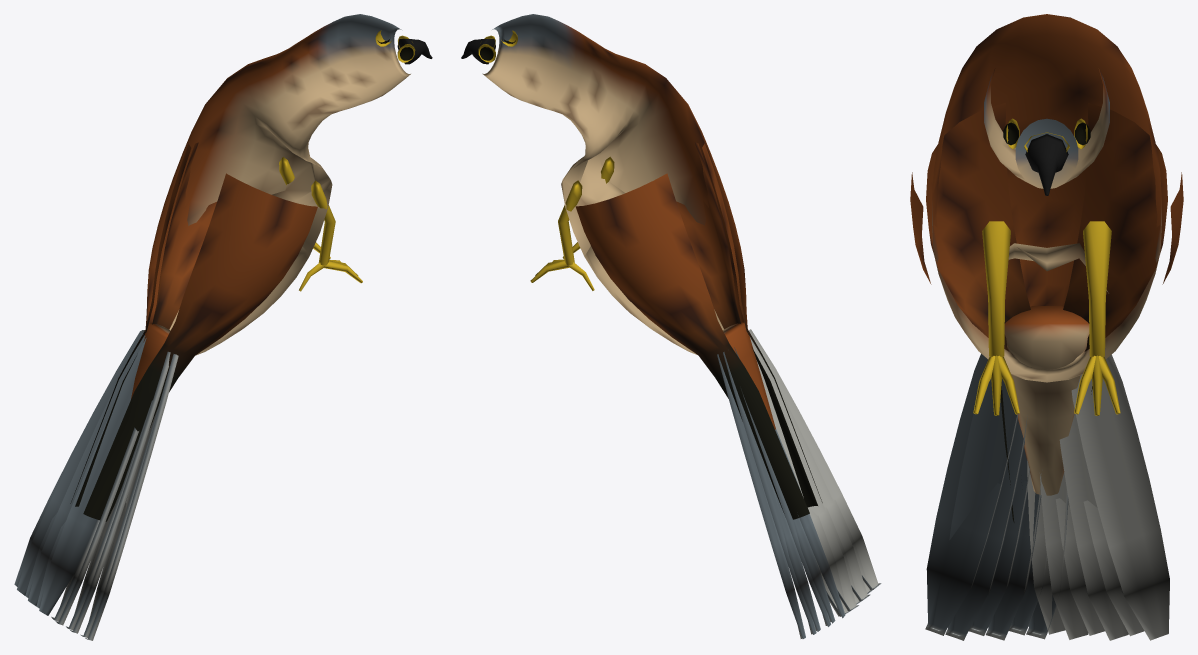
Rendered from SM_Bird_kestrel_perch.glb.
3 renders of one model, left to right at view 1: azimuth 30°, elevation 25°; view 2: azimuth 150°, elevation 25°; view 3: azimuth 270°, elevation 25°, orthographic. The views are drawn at different scales.
Visible parts, largest first — view 1: SM_Bird_kestrel_perch; view 2: SM_Bird_kestrel_perch; view 3: SM_Bird_kestrel_perch.
Boxes of the visible parts, x1,y1,x2,y2 form: SM_Bird_kestrel_perch: [14, 14, 432, 640]; SM_Bird_kestrel_perch: [461, 14, 881, 638]; SM_Bird_kestrel_perch: [910, 14, 1183, 640].
Size of the model in its own units: 0.2291 by 0.2975 by 0.0896.
